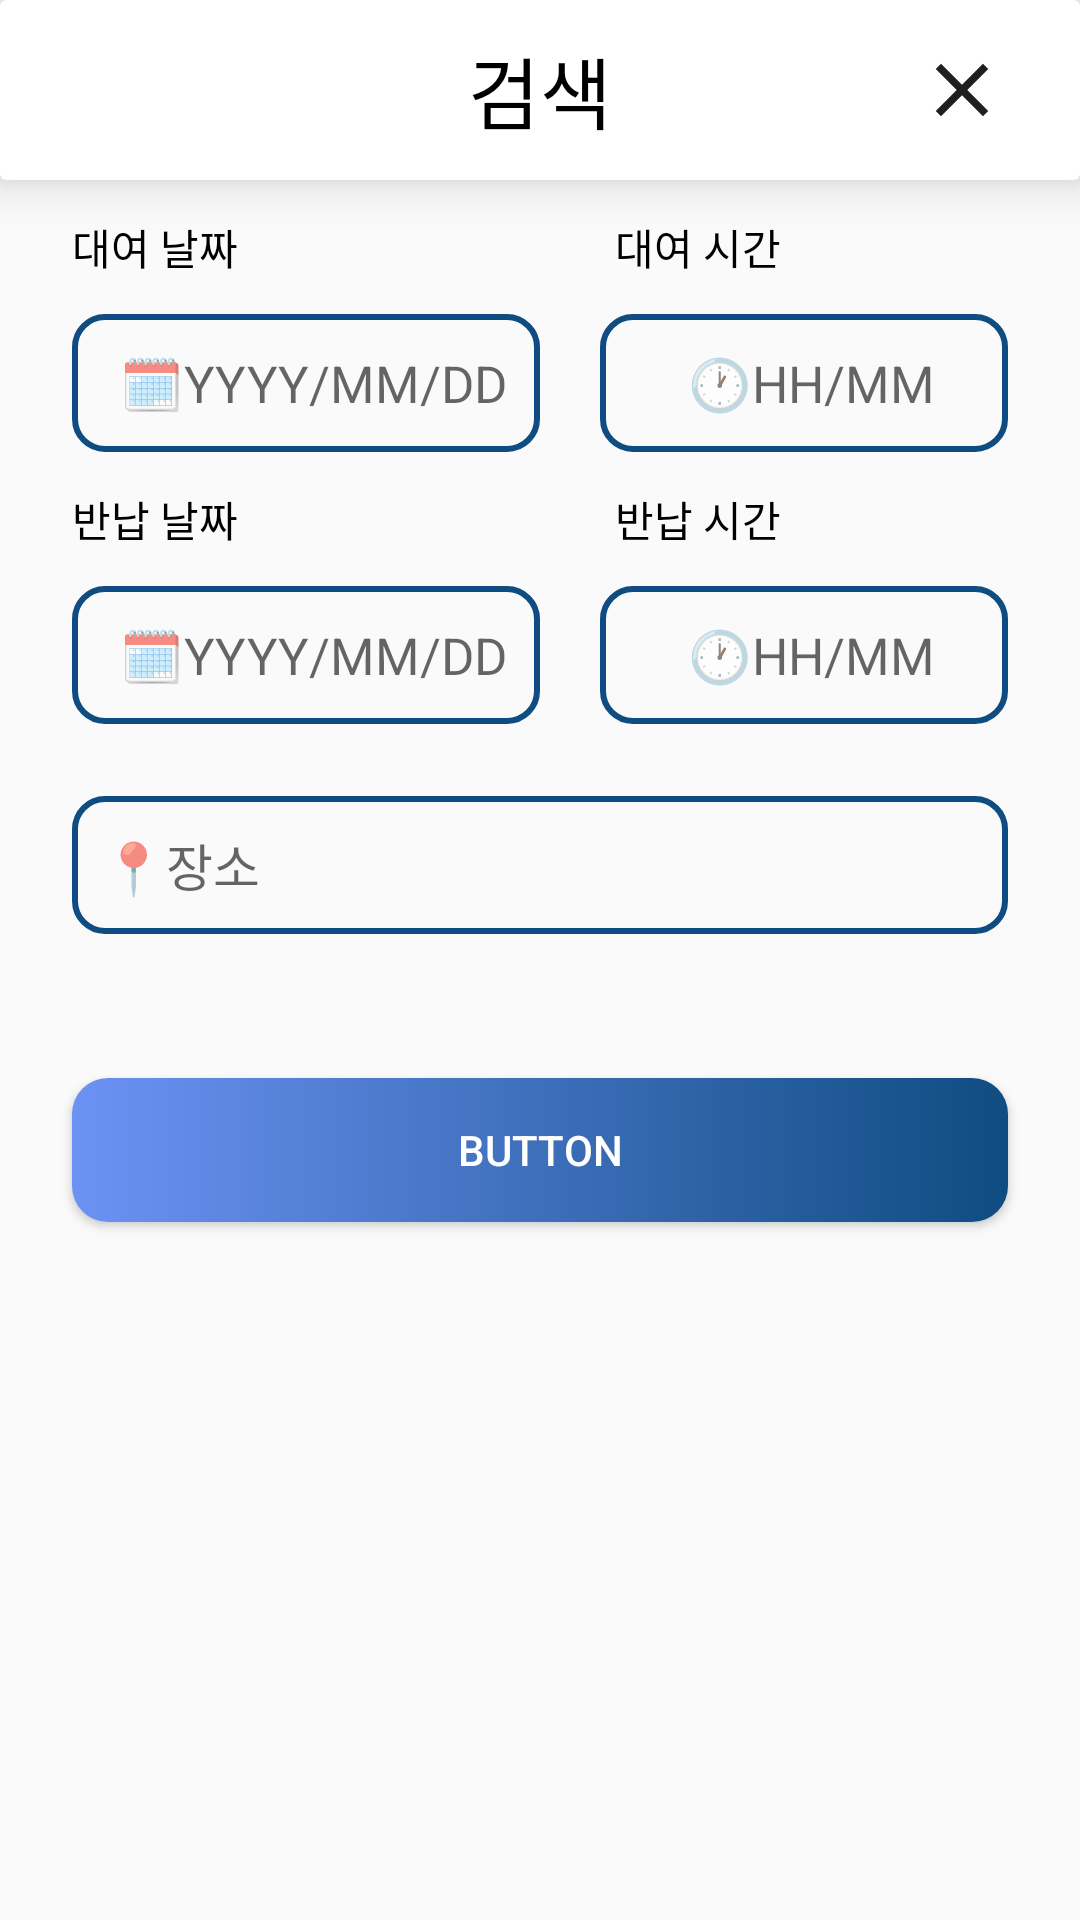

Named icons in this screenshot (1080 x 1920) and their bounding boxes, (x1, y1, x2, y2):
close: (936, 64, 988, 116)
